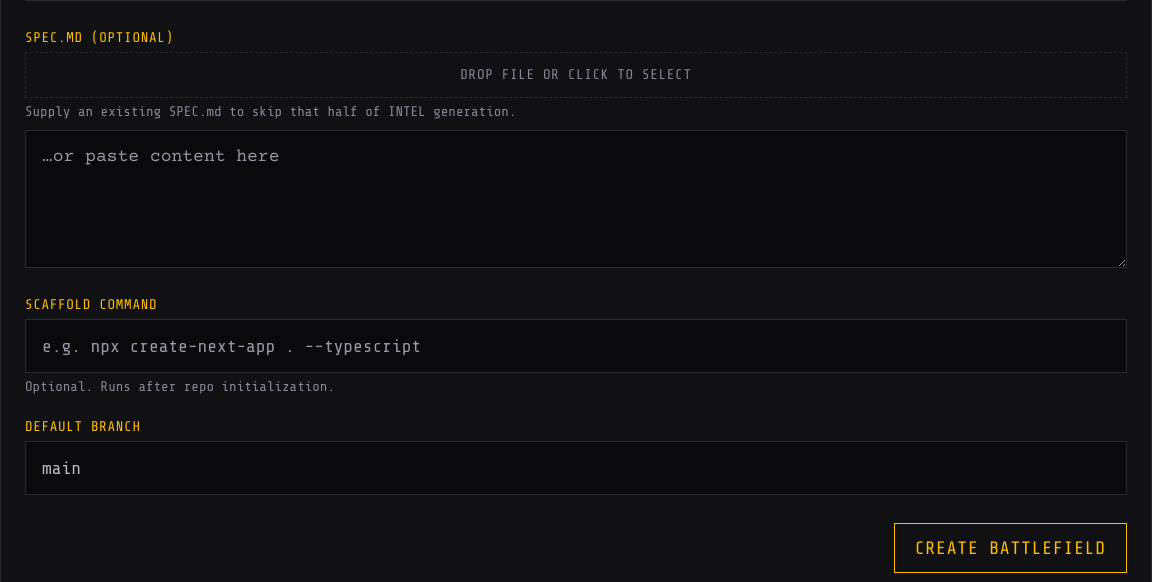
Test: CreateBattlefield › shows error when name is empty on submit
(page scrolled)
Click the button "CREATE BATTLEFIELD": {"x": 1010, "y": 548} [894,523,1127,573]
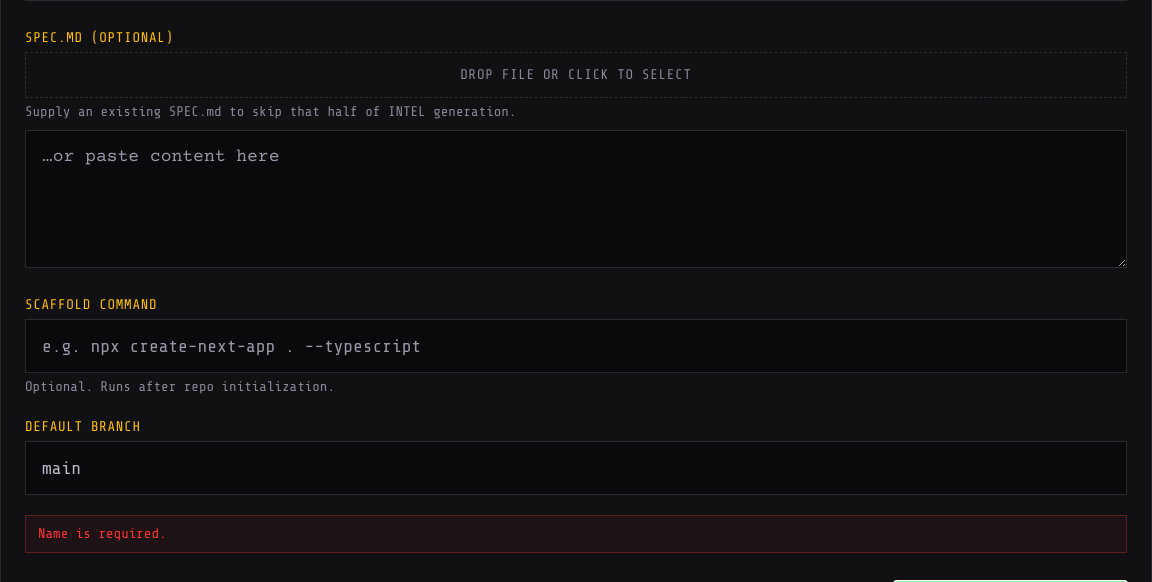
Result: the text "Name is required." is shown at [25,515,1127,553]
